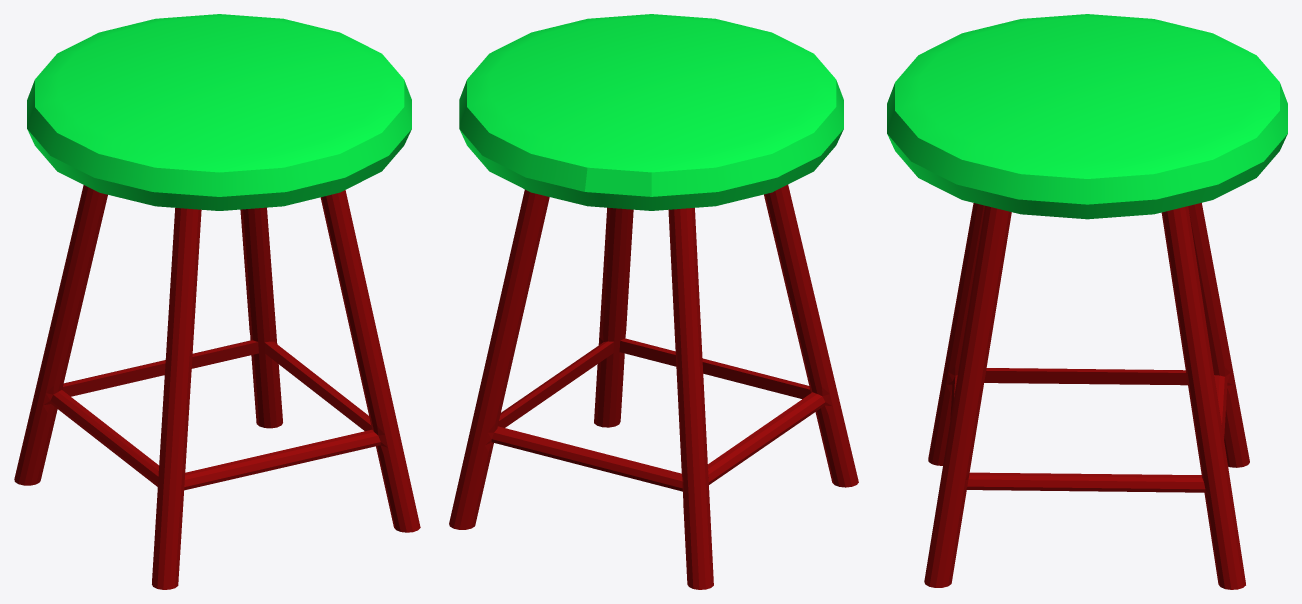
The model's file is Barstool_update.fbx.
3 views of the same model, side by side, from view 1: azimuth 30°, elevation 25°; view 2: azimuth 150°, elevation 25°; view 3: azimuth 270°, elevation 25° (orthographic). The views are drawn at different scales.
Visible parts, largest first — view 1: Stool_Metal002, Stool_Legs002; view 2: Stool_Metal002, Stool_Legs002; view 3: Stool_Metal002, Stool_Legs002.
Boxes of the visible parts, bbox=[...] form: Stool_Metal002: bbox=[27, 14, 411, 210]; Stool_Legs002: bbox=[14, 185, 420, 589]; Stool_Metal002: bbox=[459, 14, 843, 210]; Stool_Legs002: bbox=[449, 184, 858, 589]; Stool_Metal002: bbox=[887, 14, 1287, 219]; Stool_Legs002: bbox=[924, 202, 1249, 589].
Size of the model in its own units: 0.3568 by 0.3513 by 0.4196.
